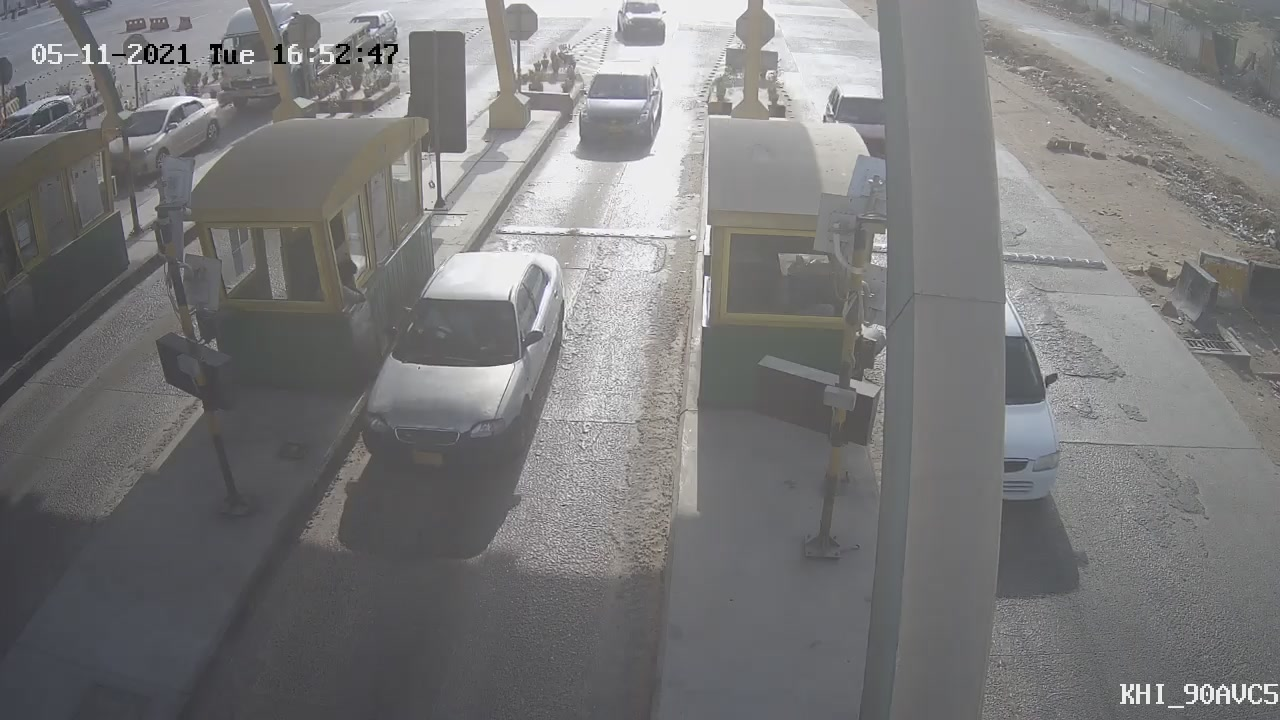F1: (339, 230, 583, 490), (561, 48, 677, 159)
